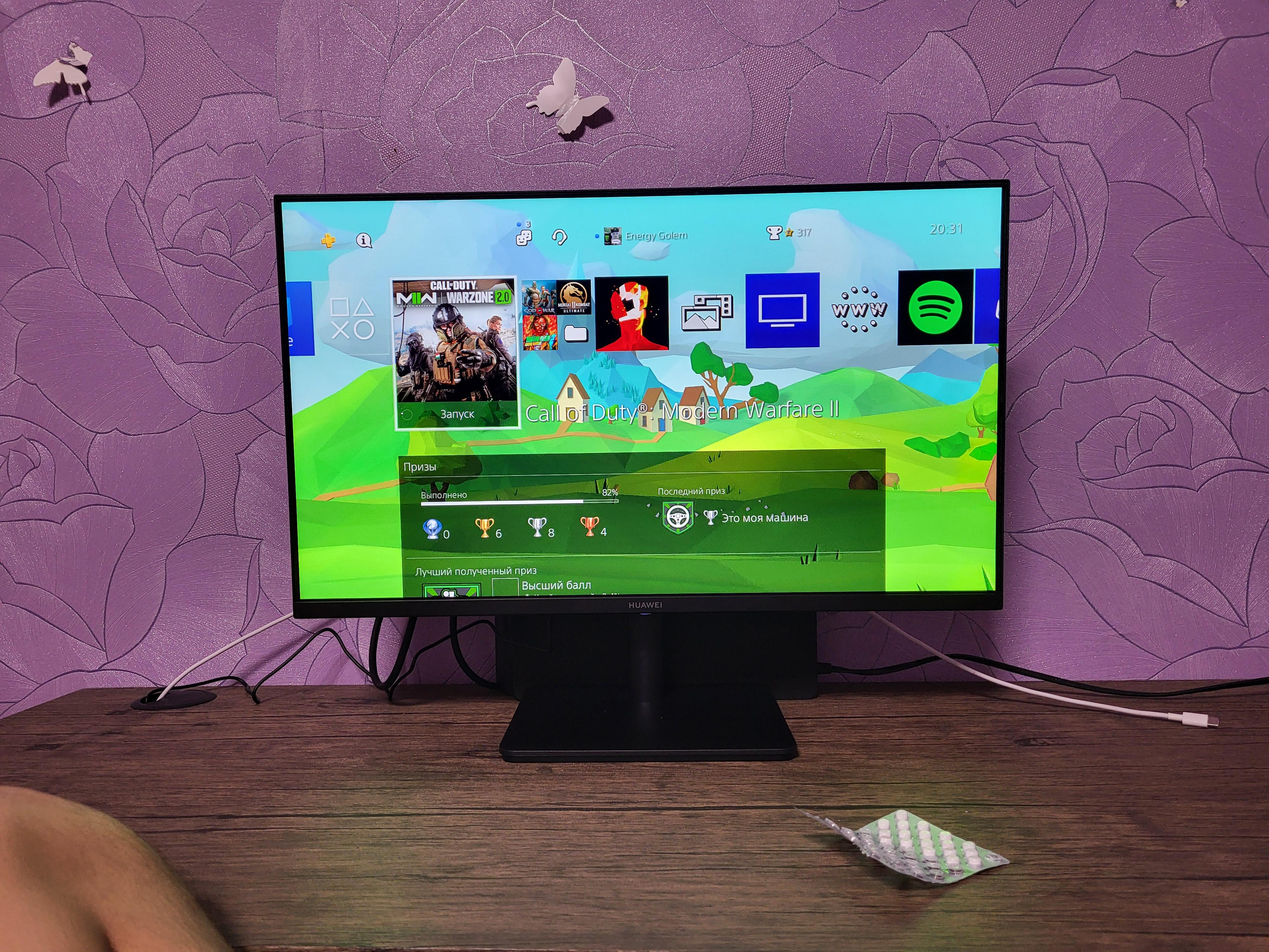monitor: (271, 178, 1015, 624)
